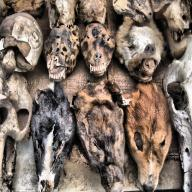boar: (29, 80, 77, 192)
